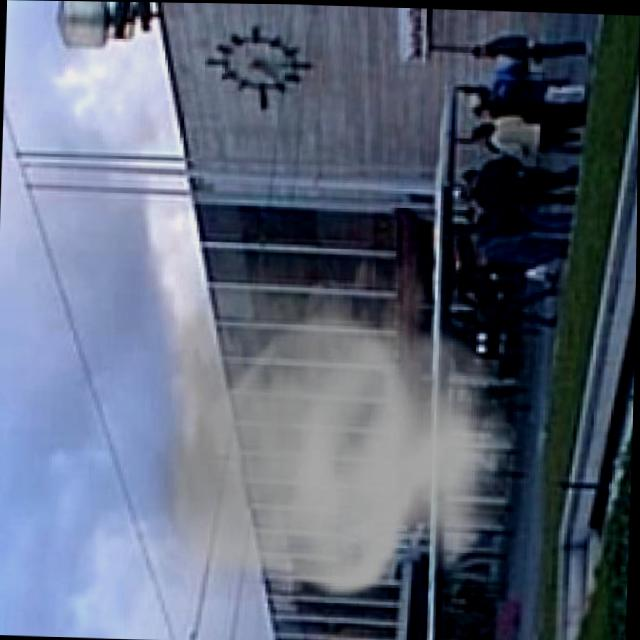no_helmet: (136, 205, 523, 607)
